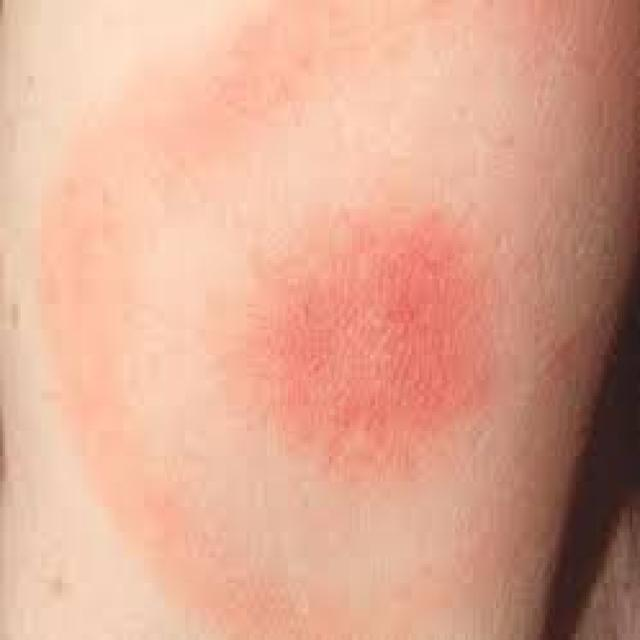kene: (49, 10, 610, 640)
